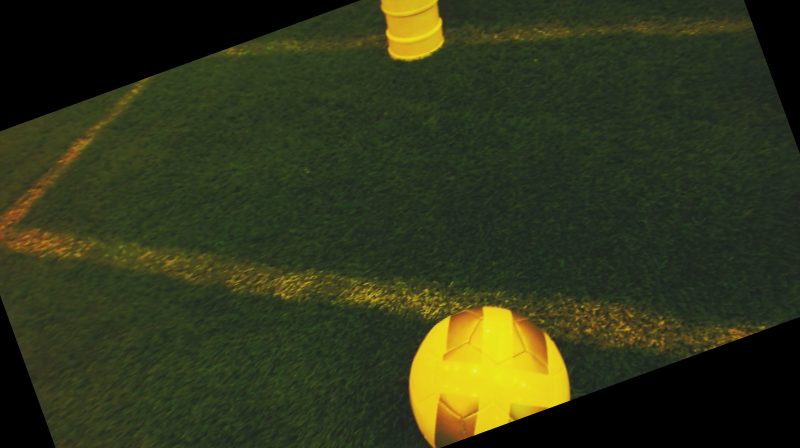post: (362, 1, 458, 73)
